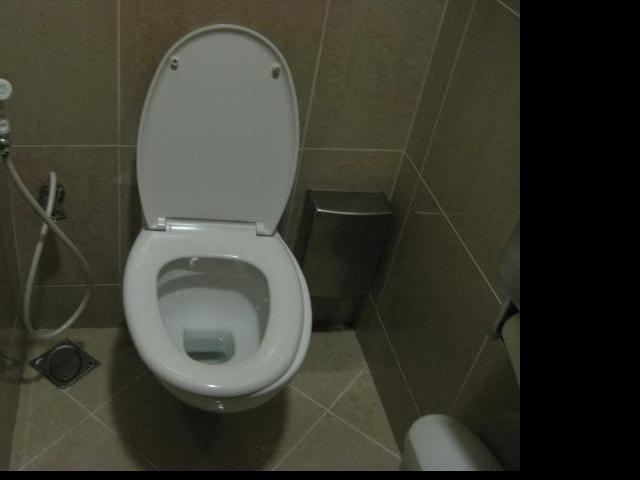Sanitario: (115, 16, 320, 426)
